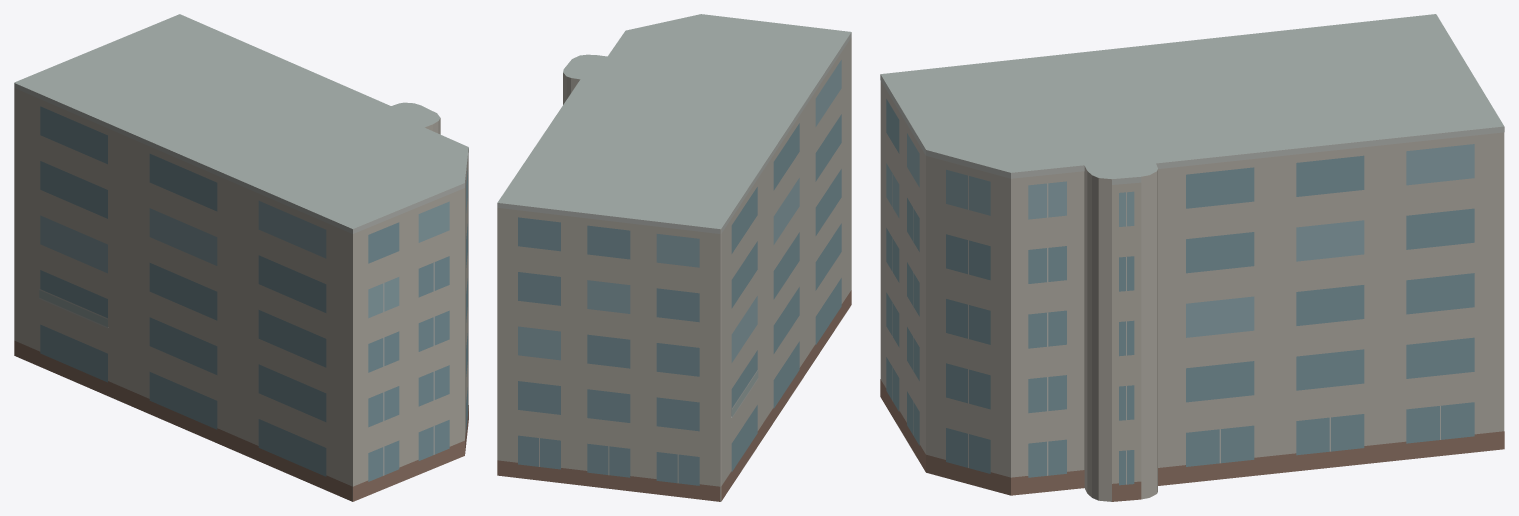
Rendered from survey-upis-32707657.glb.
The picture shows the model from 3 angles, left to right: view 1: azimuth 30°, elevation 25°; view 2: azimuth 150°, elevation 25°; view 3: azimuth 270°, elevation 25°; orthographic projection. The views are drawn at different scales.
Parts seen in each view (by area): view 1: survey-upis-32707657.tmp; view 2: survey-upis-32707657.tmp; view 3: survey-upis-32707657.tmp.
Part boxes in pixels (bbox=[...]): survey-upis-32707657.tmp: bbox=[14, 14, 468, 501]; survey-upis-32707657.tmp: bbox=[497, 14, 851, 501]; survey-upis-32707657.tmp: bbox=[880, 14, 1504, 501].
Bounding box in the file's own units: 14.72 × 13.4 × 23.49.
